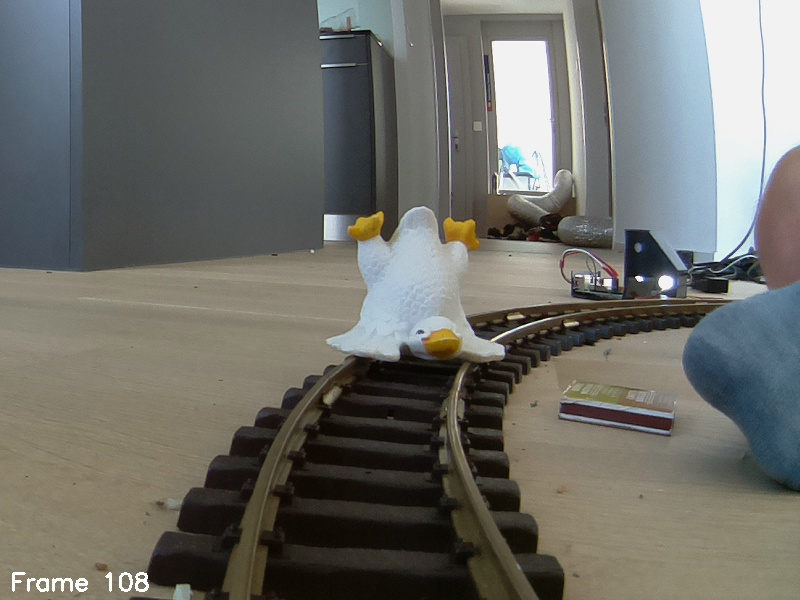Ente: (322, 206, 510, 370)
Halt: (623, 230, 687, 303)
